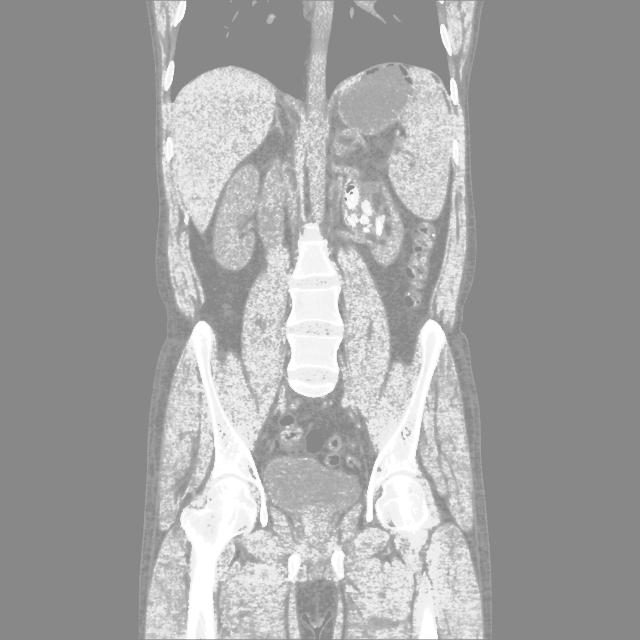STONE: (148, 149, 550, 336)
